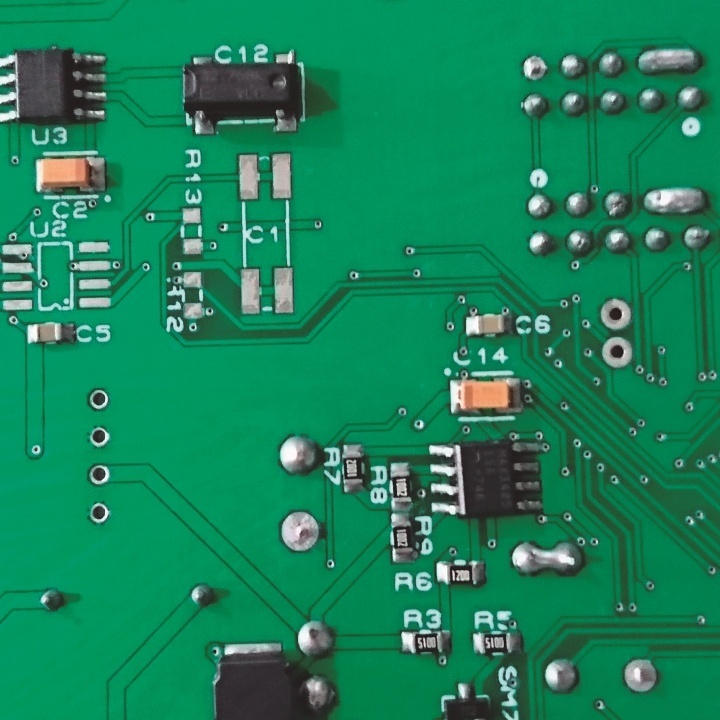F: (276, 510, 324, 554), (623, 654, 662, 700), (596, 292, 632, 334), (599, 337, 633, 369), (521, 52, 547, 85), (84, 422, 114, 448), (85, 385, 110, 412), (85, 462, 110, 486), (88, 502, 111, 526)
P: (508, 536, 584, 580), (633, 42, 704, 78), (644, 184, 710, 220)
